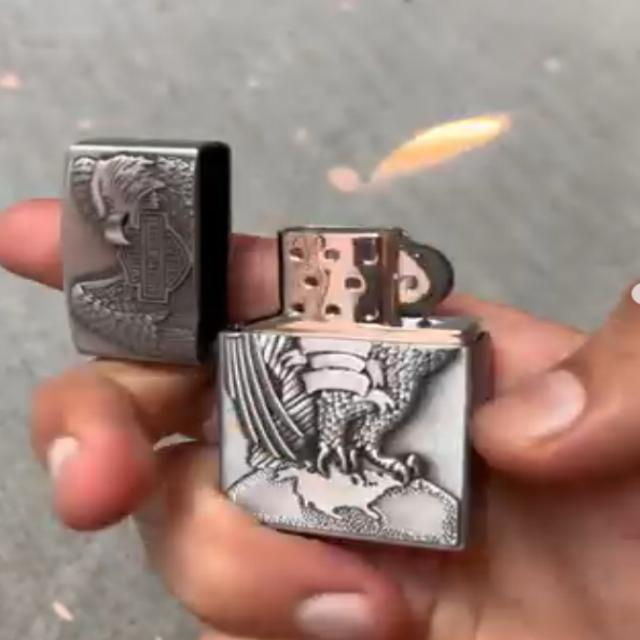fire: (381, 114, 507, 174)
